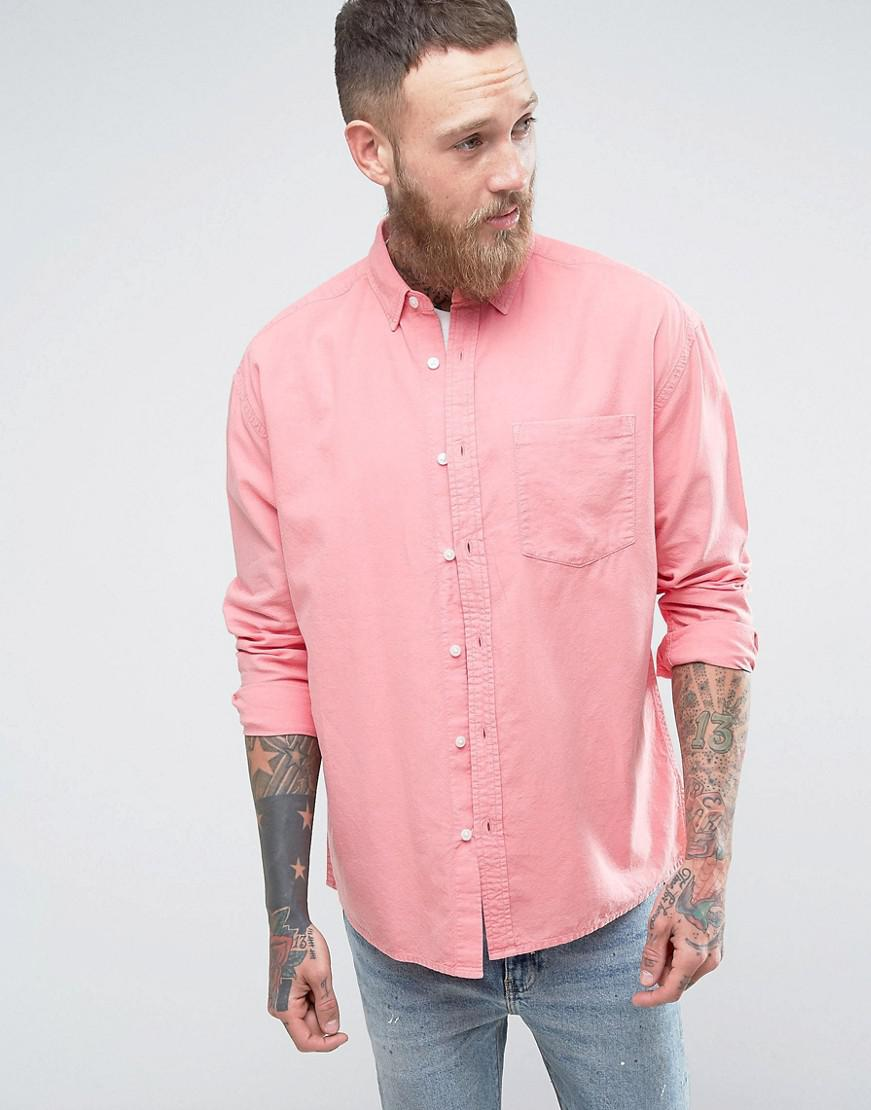teeshirt: (212, 218, 768, 976)
